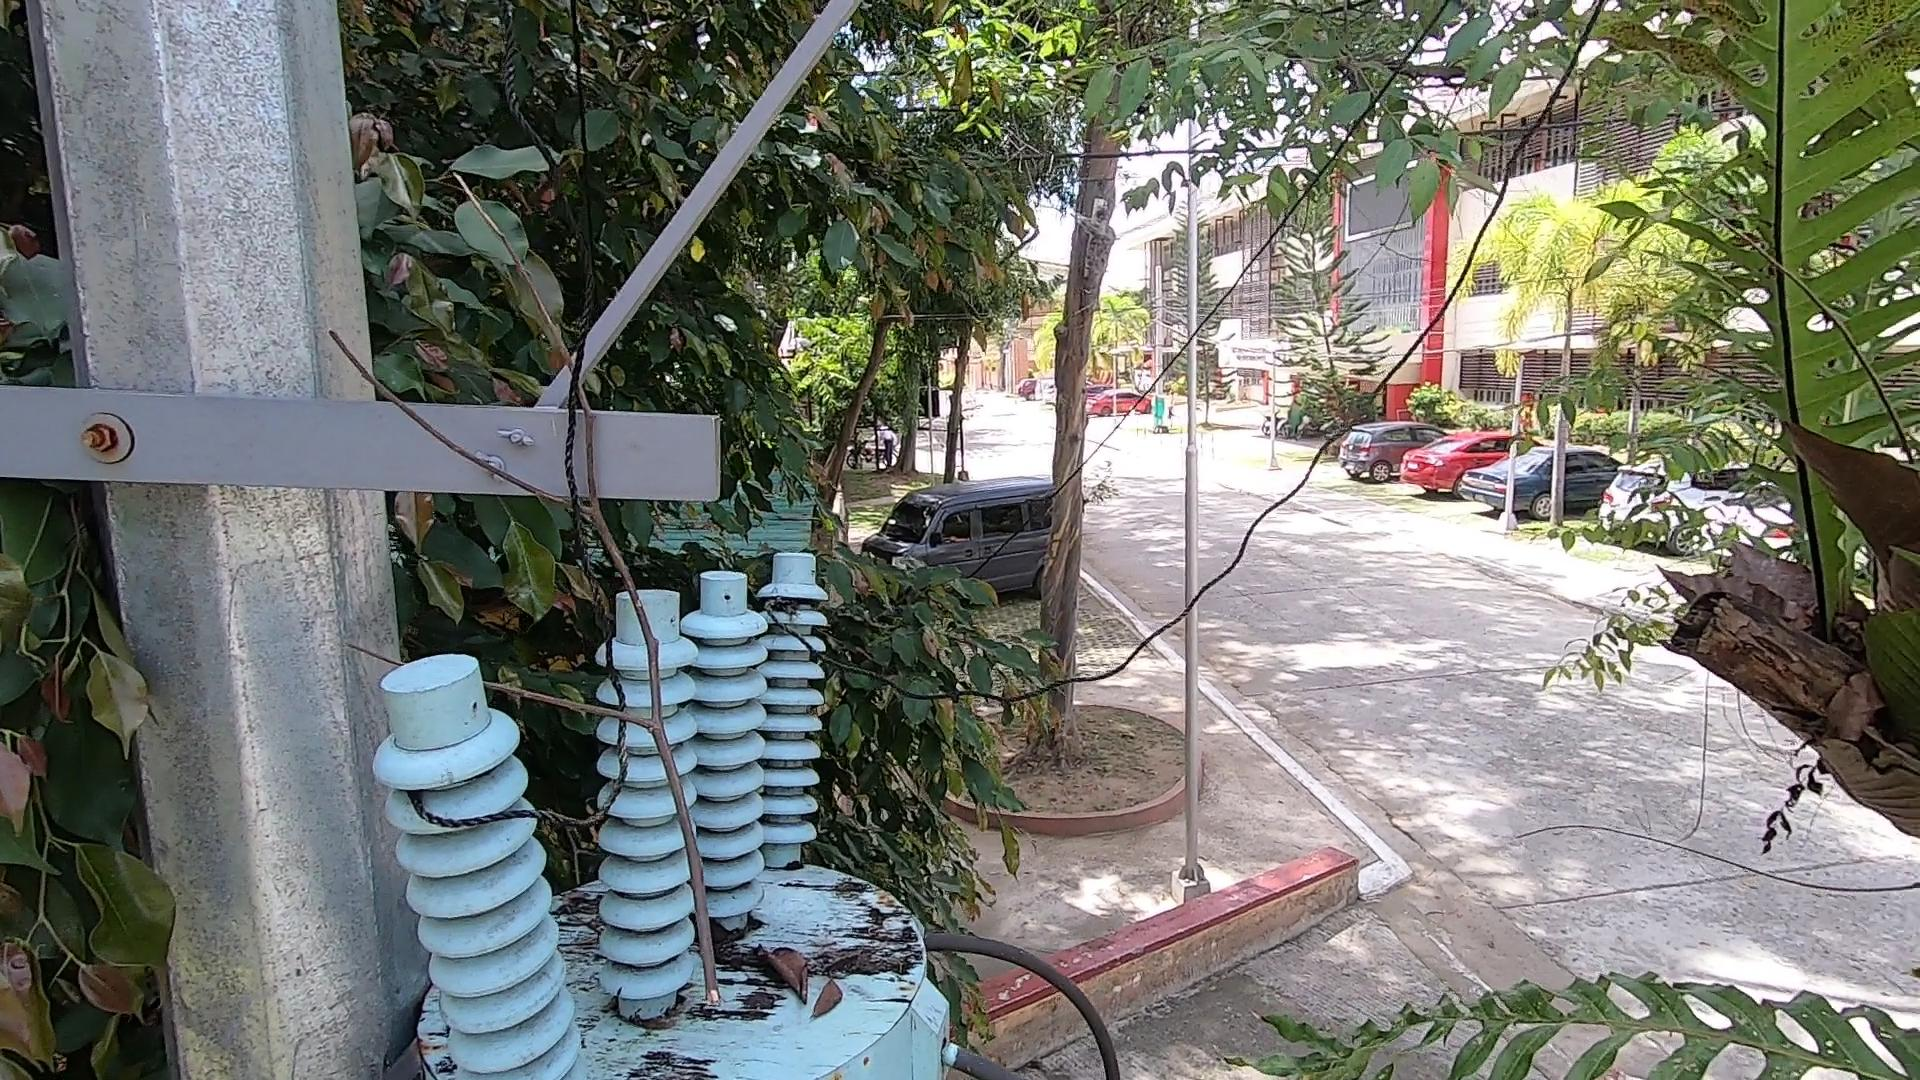leaf: (752, 939, 818, 1018), (811, 973, 856, 1030), (702, 913, 738, 963)
tree branch: (322, 248, 733, 1015)
